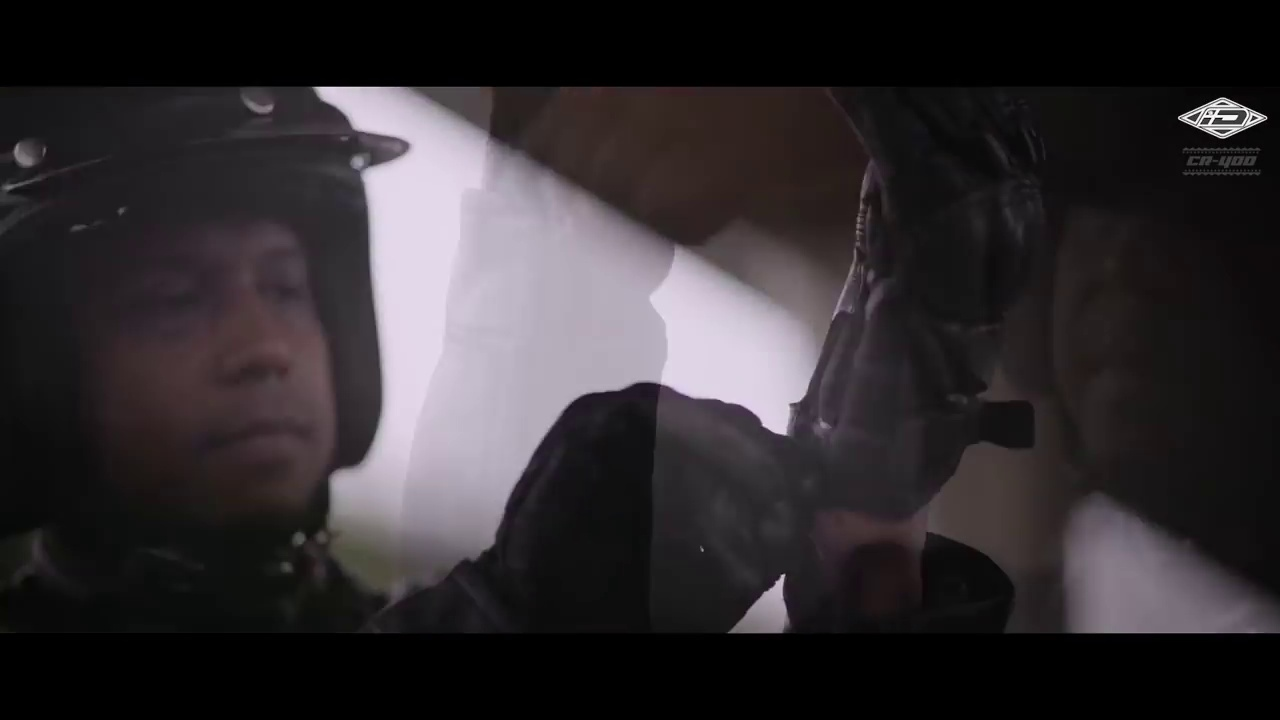helmet: (3, 80, 392, 546)
